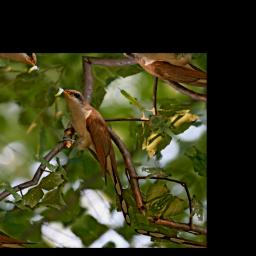Cuckoo: (11, 78, 184, 228)
